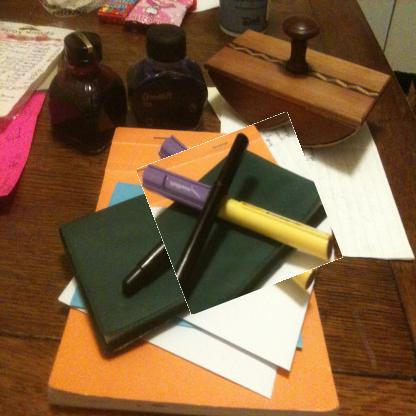Pen: (147, 124, 331, 304)
